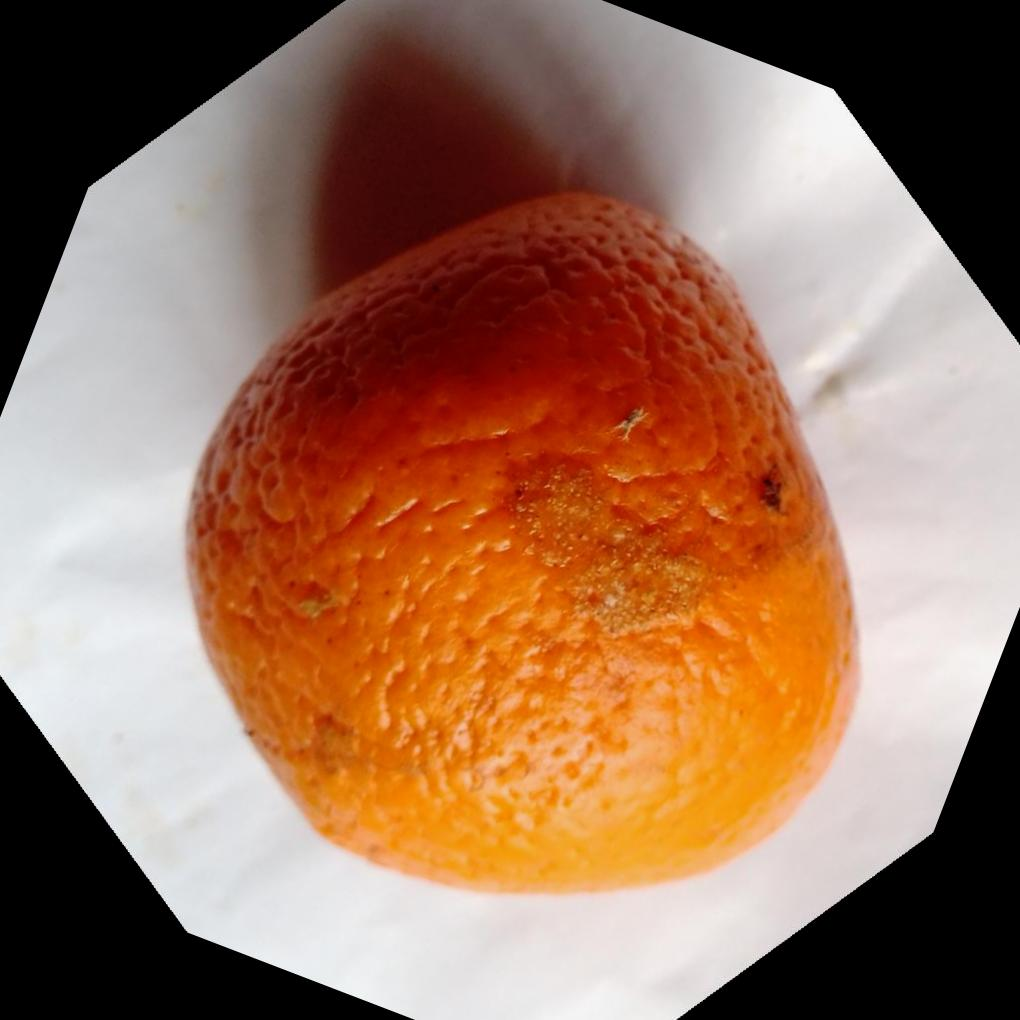FreshOrange: (183, 187, 867, 902)
